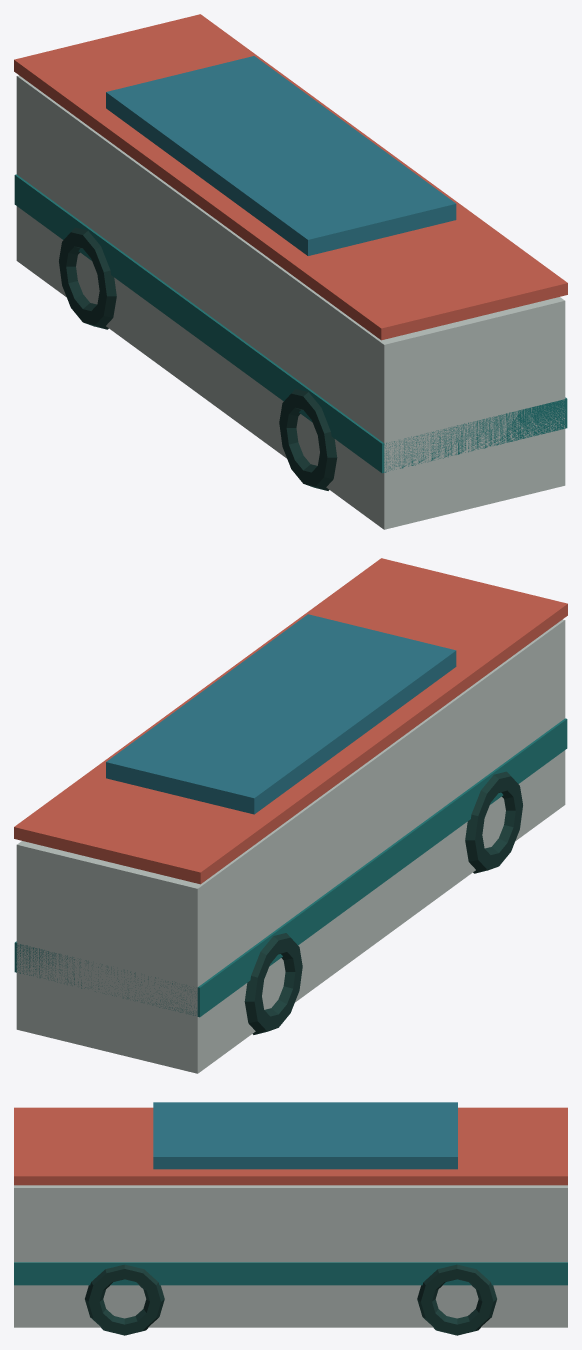
File: vehicle_bus.glb
3 views of the same model, one above another, from view 1: azimuth 30°, elevation 25°; view 2: azimuth 150°, elevation 25°; view 3: azimuth 270°, elevation 25° (orthographic). The views are drawn at different scales.
Visible parts, largest first — view 1: rough, glossy; view 2: rough, glossy; view 3: rough, glossy.
Boxes of the visible parts, left/top/right/bottom form: rough: left=14, top=14, right=567, bottom=529; glossy: left=106, top=56, right=456, bottom=255; rough: left=14, top=558, right=567, bottom=1073; glossy: left=106, top=614, right=456, bottom=814; rough: left=14, top=1107, right=567, bottom=1335; glossy: left=153, top=1102, right=457, bottom=1169.
Size of the model in its own units: 1.38 by 1.56 by 4.5.
